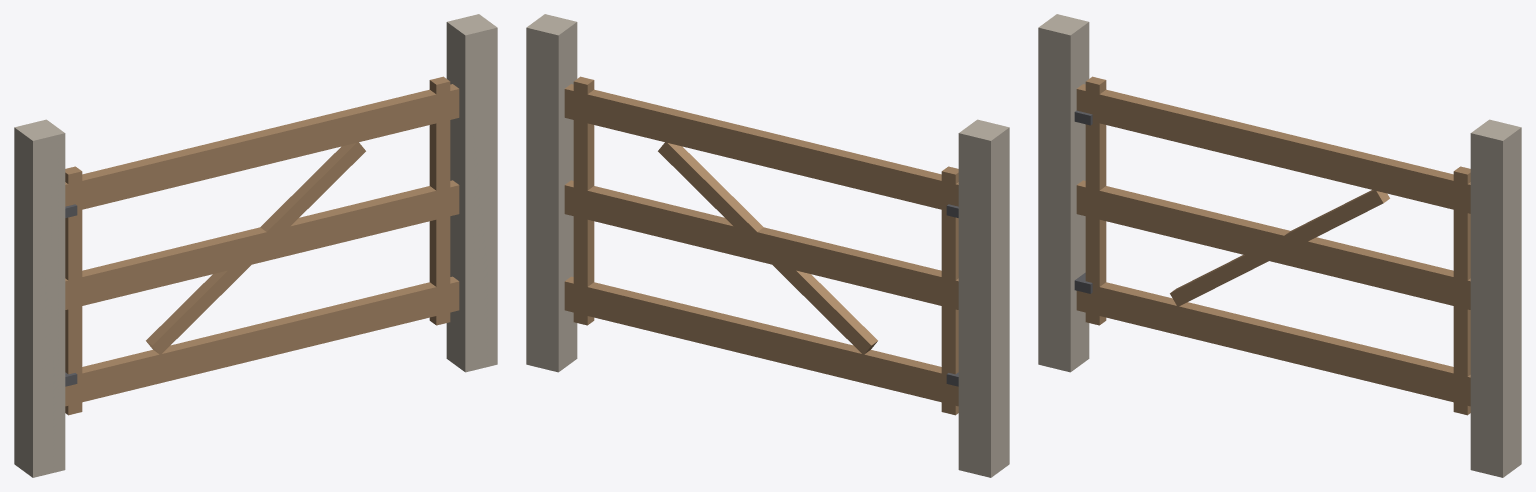
The model's file is SM_Fence_Gate.glb.
3 renders of one model, left to right at view 1: azimuth 30°, elevation 25°; view 2: azimuth 150°, elevation 25°; view 3: azimuth 330°, elevation 25°, orthographic.
Visible parts, largest first — view 1: SM_Fence_Gate; view 2: SM_Fence_Gate; view 3: SM_Fence_Gate.
Boxes of the visible parts, <box> form: SM_Fence_Gate: <box>14,14,497,477</box>; SM_Fence_Gate: <box>526,14,1009,477</box>; SM_Fence_Gate: <box>1038,14,1521,477</box>.
Size of the model in its own units: 2.02 by 1.4 by 0.14.
